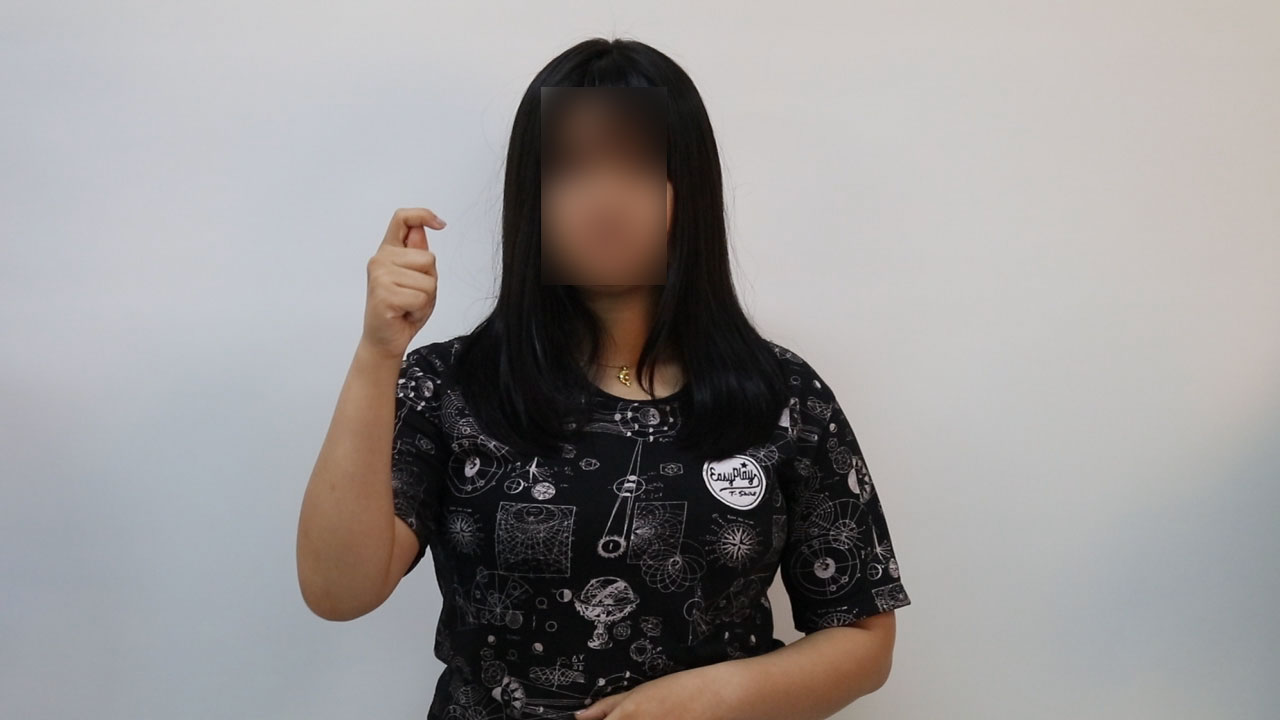or: (359, 202, 456, 358)
